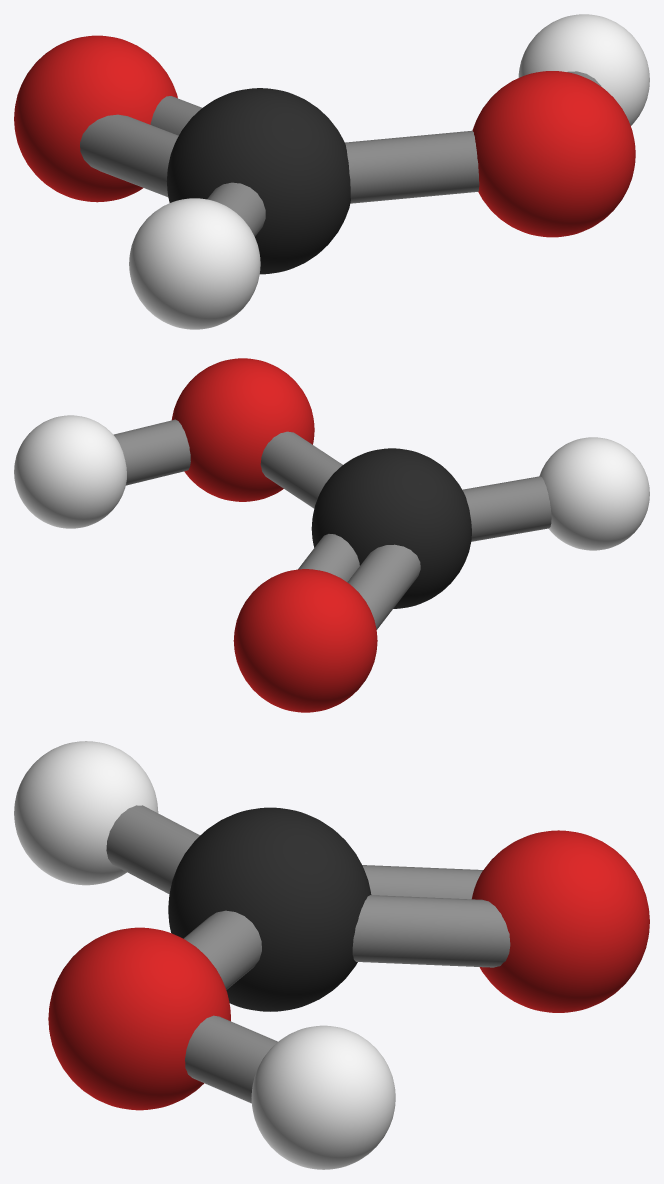
File: methansaeure.glb
The picture shows the model from 3 angles, top to bottom: view 1: azimuth 30°, elevation 25°; view 2: azimuth 150°, elevation 25°; view 3: azimuth 270°, elevation 25°; orthographic projection. The views are drawn at different scales.
Parts seen in each view (by area): view 1: O_0, C_1, O_2, H_4, B0, H_3, B1b, B3, B1a; view 2: O_2, C_1, O_0, H_3, H_4, B3, B0, B2, B1b, B1a; view 3: C_1, O_0, O_2, H_3, H_4, B1a, B3, B2, B0, B1b.
Part boxes in pixels (left/top/right/bottom): O_0: left=472, top=71, right=635, bottom=237; C_1: left=166, top=88, right=350, bottom=274; O_2: left=14, top=35, right=177, bottom=202; H_4: left=129, top=198, right=260, bottom=329; B0: left=345, top=130, right=479, bottom=203; H_3: left=518, top=14, right=649, bottom=125; B1b: left=80, top=114, right=178, bottom=196; B3: left=207, top=182, right=265, bottom=236; B1a: left=150, top=96, right=201, bottom=135; O_2: left=233, top=569, right=377, bottom=712; C_1: left=311, top=448, right=471, bottom=608; O_0: left=171, top=358, right=314, bottom=501; H_3: left=14, top=415, right=126, bottom=528; H_4: left=539, top=437, right=649, bottom=550; B3: left=462, top=476, right=551, bottom=541; B0: left=260, top=431, right=342, bottom=508; B2: left=113, top=419, right=190, bottom=485; B1b: left=347, top=544, right=420, bottom=629; B1a: left=298, top=534, right=359, bottom=582; C_1: left=168, top=807, right=371, bottom=1011; O_0: left=48, top=927, right=230, bottom=1110; O_2: left=472, top=830, right=649, bottom=1012; H_3: left=251, top=1025, right=395, bottom=1169; H_4: left=14, top=741, right=158, bottom=885; B1a: left=352, top=895, right=510, bottom=967; B3: left=106, top=805, right=199, bottom=894; B2: left=185, top=1015, right=277, bottom=1103; B0: left=183, top=910, right=261, bottom=989; B1b: left=362, top=865, right=482, bottom=899.
Size of the model in its own units: 3.22 by 0.962 by 2.64.
